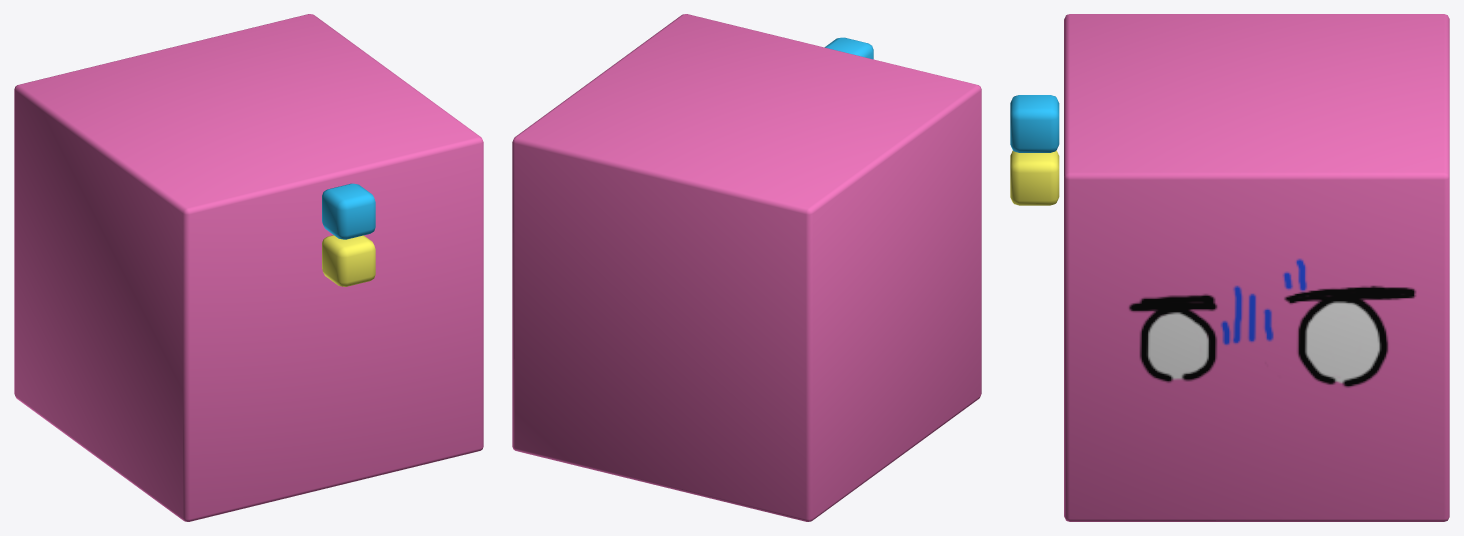
The model's file is BocchiCube.fbx.
The picture shows the model from 3 angles, left to right: view 1: azimuth 30°, elevation 25°; view 2: azimuth 150°, elevation 25°; view 3: azimuth 270°, elevation 25°; orthographic projection. The views are drawn at different scales.
Parts seen in each view (by area): view 1: BocchiCube; view 2: BocchiCube; view 3: BocchiCube.
Boxes of the visible parts, x1,y1,x2,y2 form: BocchiCube: (14, 14, 483, 521); BocchiCube: (512, 14, 981, 521); BocchiCube: (1010, 14, 1449, 521).
Size of the model in its own units: 200 by 200 by 228.
